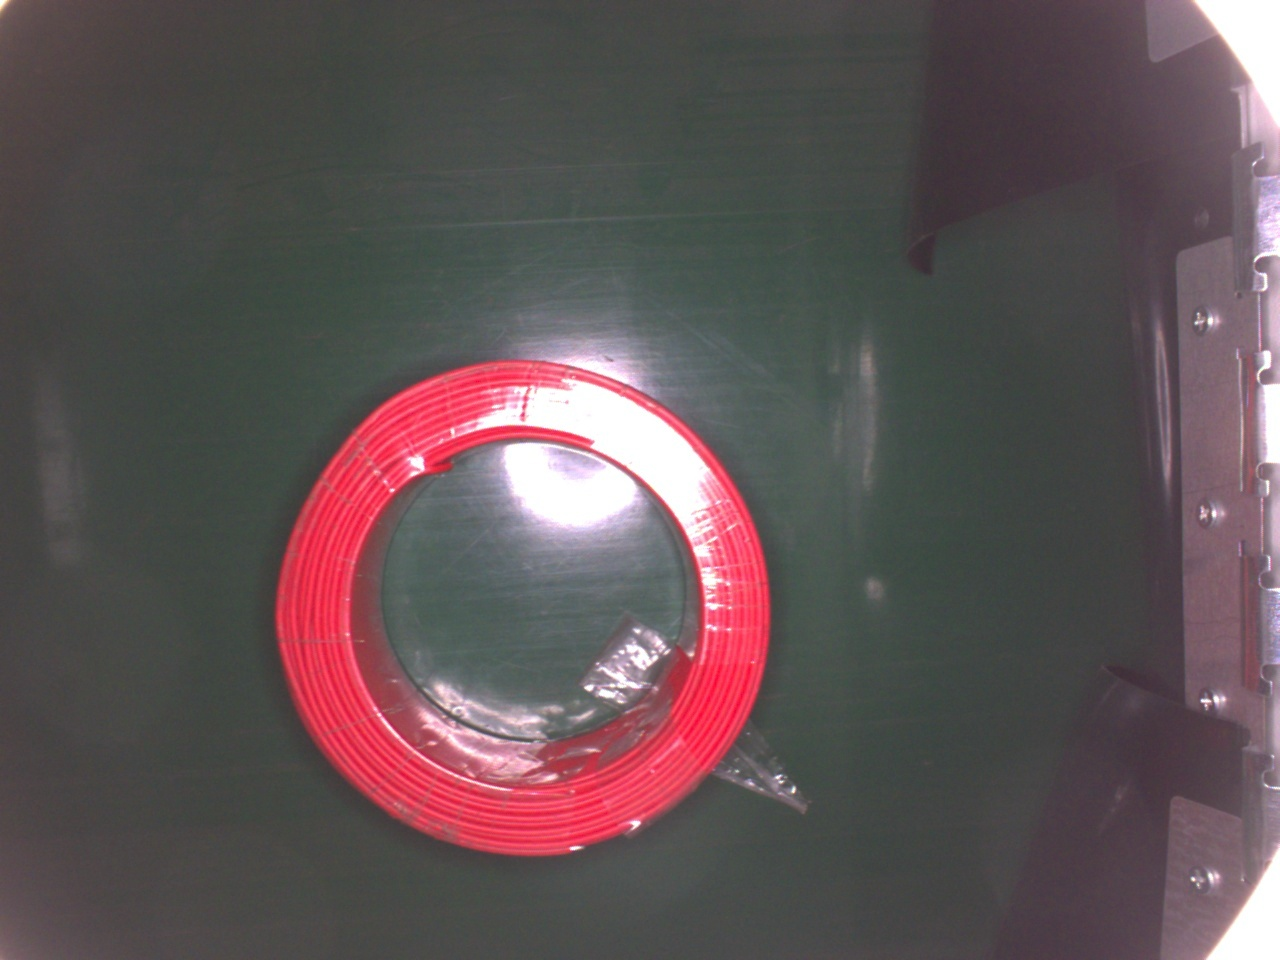red: (276, 354, 772, 858)
